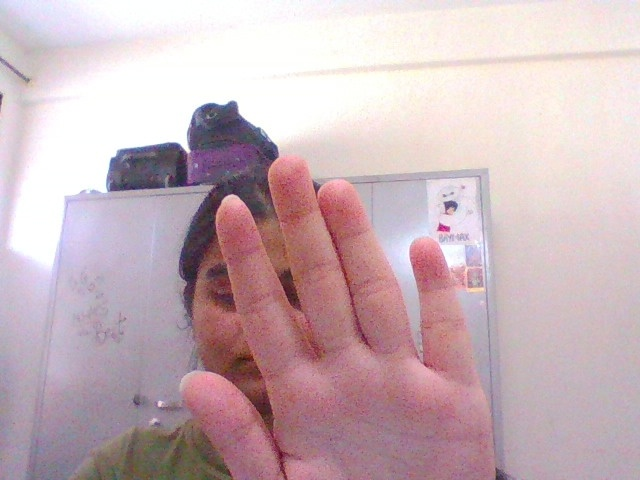Hello: (174, 135, 513, 480)
